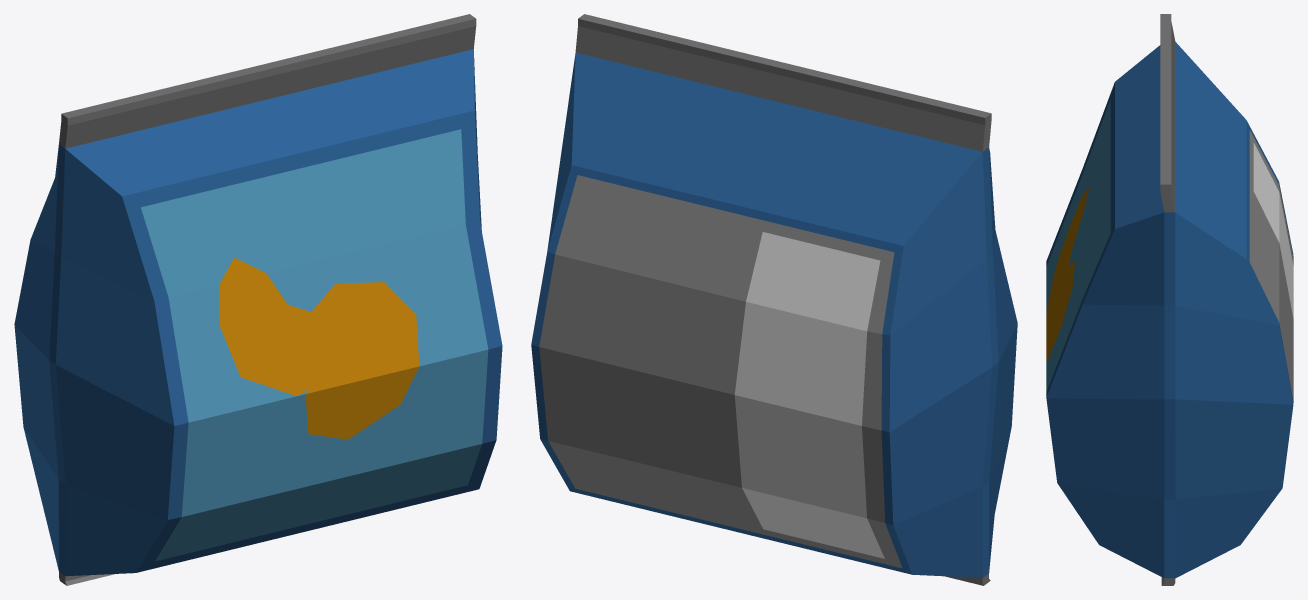
Rendered from Regular Potato Chips Small.fbx.
3 renders of one model, left to right at view 1: azimuth 30°, elevation 25°; view 2: azimuth 150°, elevation 25°; view 3: azimuth 270°, elevation 25°, orthographic. The views are drawn at different scales.
Parts seen in each view (by area): view 1: Regular Potato Chips Small; view 2: Regular Potato Chips Small; view 3: Regular Potato Chips Small.
Part boxes in pixels (x1=…): Regular Potato Chips Small: x1=14, y1=14, x2=502, y2=585; Regular Potato Chips Small: x1=531, y1=14, x2=1017, y2=585; Regular Potato Chips Small: x1=1046, y1=14, x2=1293, y2=585.
Size of the model in its own units: 33.69 by 35.26 by 19.69.
1 material, 1 textured.
